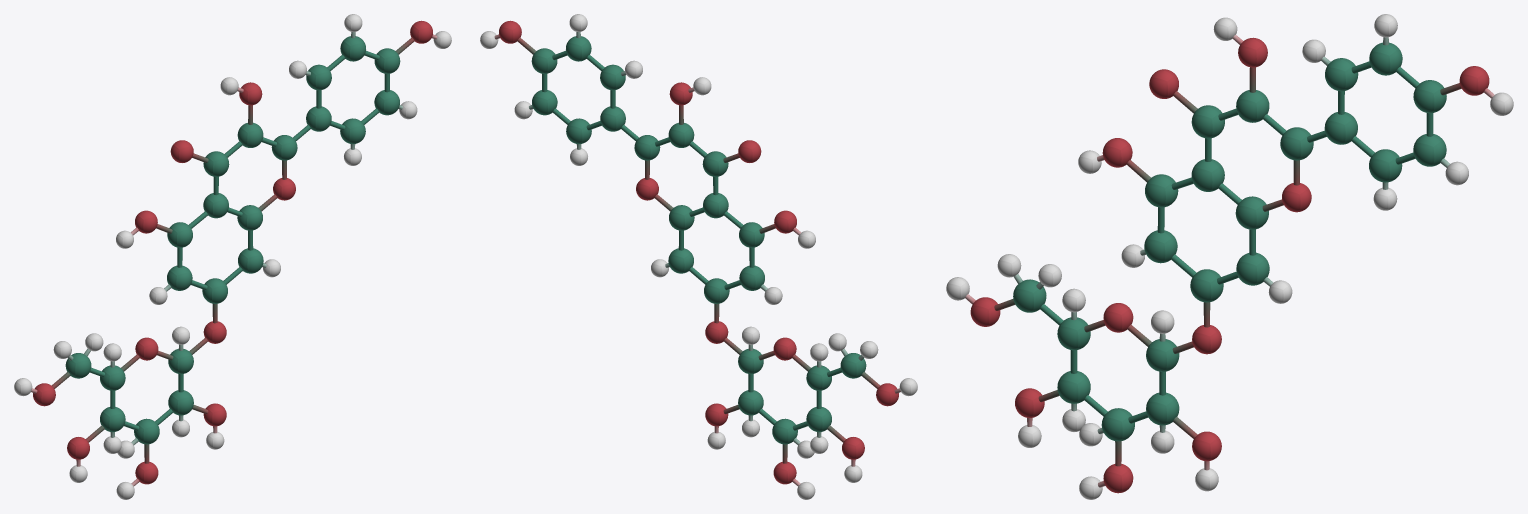
The model's file is Kaempferol.fbx.
3 views of the same model, side by side, from view 1: azimuth 30°, elevation 25°; view 2: azimuth 150°, elevation 25°; view 3: azimuth 330°, elevation 25° (orthographic). The views are drawn at different scales.
Visible parts, largest first — view 1: curMeshHyperballExportedMesh; view 2: curMeshHyperballExportedMesh; view 3: curMeshHyperballExportedMesh.
Part boxes in pixels (box(x1,y1,x2,y2)): curMeshHyperballExportedMesh: box(14, 14, 451, 499); curMeshHyperballExportedMesh: box(480, 14, 917, 499); curMeshHyperballExportedMesh: box(946, 14, 1513, 499).
Bounding box in the file's own units: 11.03 × 10.39 × 0.5667.
